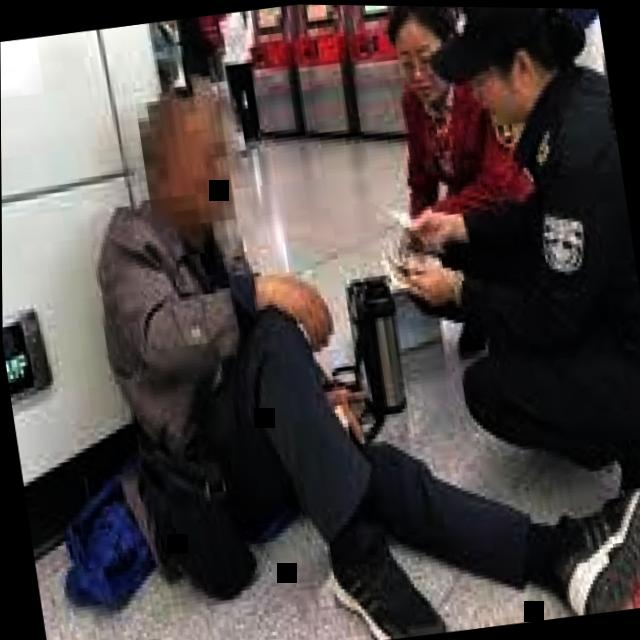Fall-Detected: (47, 44, 640, 640)
